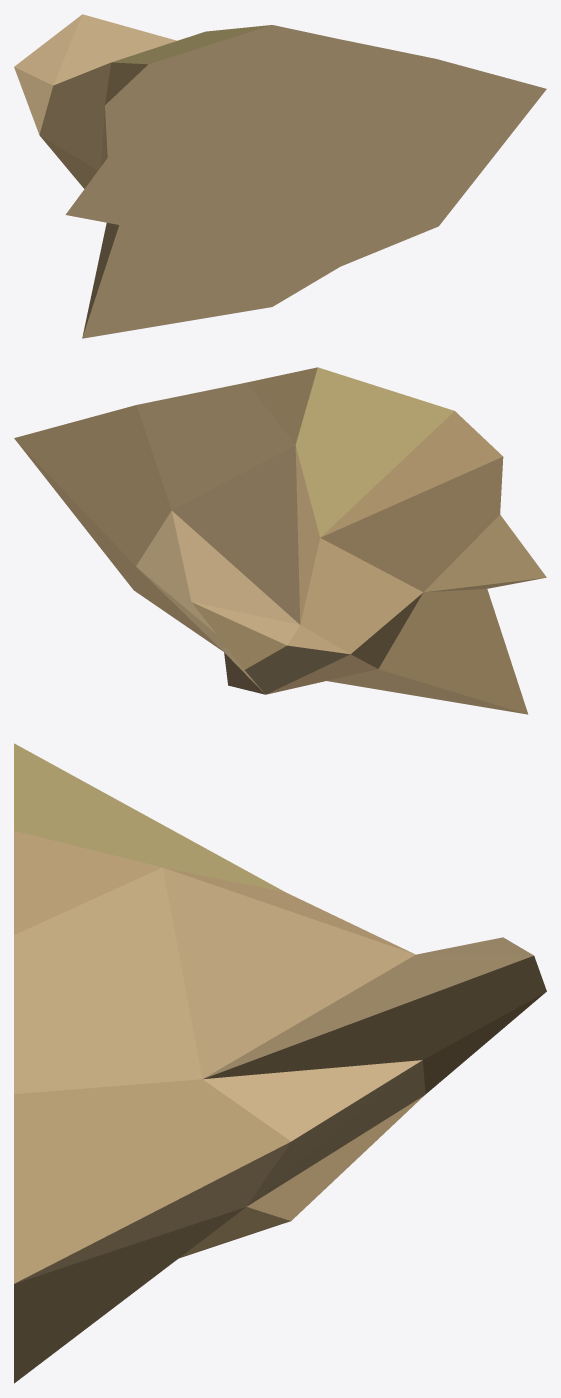
File: desert_rock_2.fbx
3 renders of one model, top to bottom at view 1: azimuth 30°, elevation 25°; view 2: azimuth 150°, elevation 25°; view 3: azimuth 270°, elevation 25°, orthographic. The views are drawn at different scales.
Parts seen in each view (by area): view 1: desert_rock_2; view 2: desert_rock_2; view 3: desert_rock_2.
Boxes of the visible parts, x1,y1,x2,y2 form: desert_rock_2: [14, 14, 546, 338]; desert_rock_2: [14, 367, 546, 714]; desert_rock_2: [14, 743, 546, 1383].
Bounding box in the file's own units: 357 × 200 × 200.
